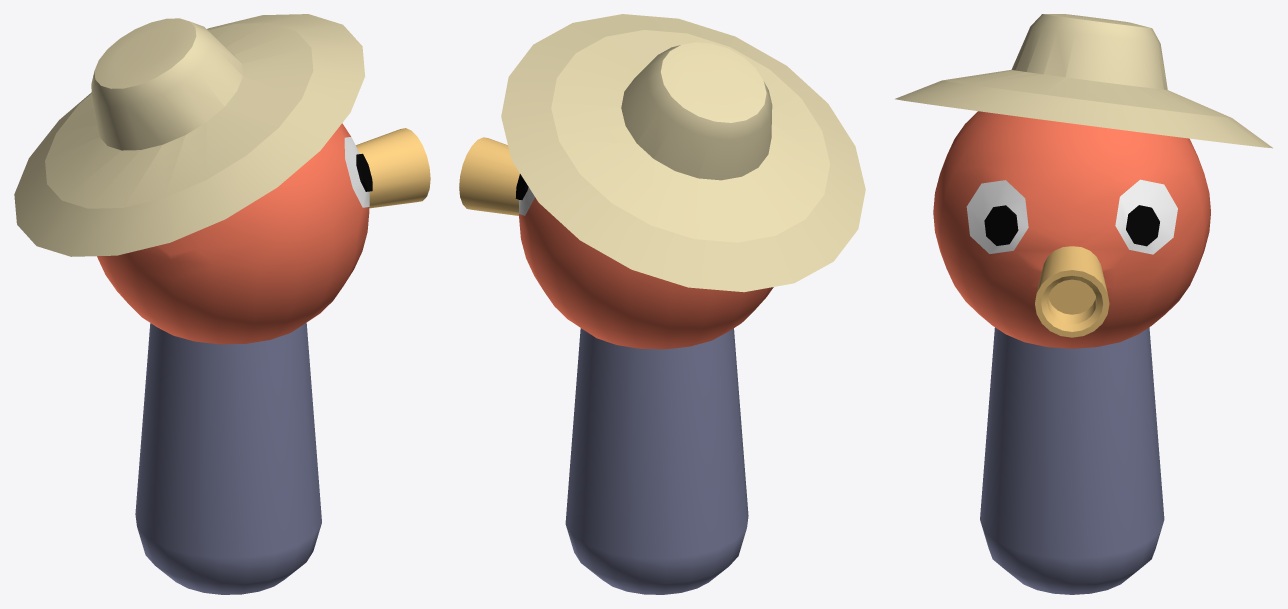
The model's file is BirdFarmer.fbx.
3 renders of one model, left to right at view 1: azimuth 30°, elevation 25°; view 2: azimuth 150°, elevation 25°; view 3: azimuth 270°, elevation 25°, orthographic. The views are drawn at different scales.
Visible parts, largest first — view 1: body, hat; view 2: hat, body; view 3: body, hat.
Boxes of the visible parts, x1,y1,x2,y2 form: body: (97, 123, 430, 594); hat: (14, 14, 365, 256); hat: (501, 14, 865, 292); body: (459, 137, 773, 594); body: (933, 111, 1210, 594); hat: (895, 14, 1272, 148).
Bounding box in the file's own units: 3.62 × 5.19 × 3.28.
